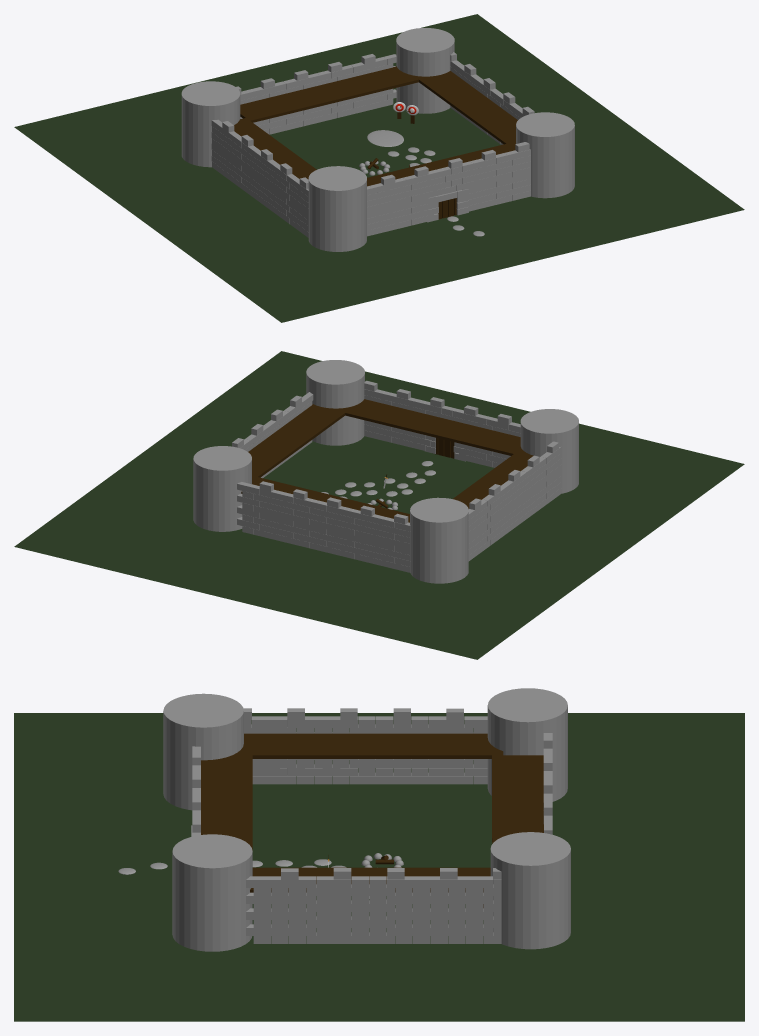
File: Castle.glb
3 views of the same model, one above another, from view 1: azimuth 30°, elevation 25°; view 2: azimuth 150°, elevation 25°; view 3: azimuth 270°, elevation 25° (orthographic). The views are drawn at different scales.
Parts seen in each view (by area): view 1: Plane, Cylinder.005, Cylinder.004, Cube.134, Cylinder.003, Cylinder.001, Cube.133, Cube.402, Cube.401; view 2: Plane, Cylinder.003, Cylinder.001, Cube.401, Cylinder.004, Cylinder.005, Cube.133, Cube.402, Cube.134; view 3: Plane, Cylinder.004, Cylinder.001, Cube.402, Cylinder.005, Cylinder.003, Cube.401, Cube.134, Cube.133.
Part boxes in pixels (x1=…): Plane: x1=14, y1=14, x2=744, y2=322; Cylinder.005: x1=308, y1=166, x2=366, y2=251; Cylinder.004: x1=516, y1=112, x2=574, y2=198; Cube.134: x1=240, y1=66, x2=418, y2=122; Cylinder.003: x1=181, y1=81, x2=240, y2=167; Cylinder.001: x1=396, y1=28, x2=454, y2=113; Cube.133: x1=414, y1=71, x2=517, y2=146; Cube.402: x1=234, y1=118, x2=316, y2=179; Cube.401: x1=367, y1=144, x2=515, y2=186; Plane: x1=14, y1=351, x2=744, y2=659; Cylinder.003: x1=410, y1=497, x2=468, y2=583; Cylinder.001: x1=193, y1=446, x2=251, y2=531; Cube.401: x1=343, y1=399, x2=526, y2=455; Cylinder.004: x1=306, y1=360, x2=364, y2=445; Cylinder.005: x1=520, y1=409, x2=578, y2=493; Cube.133: x1=248, y1=404, x2=348, y2=479; Cube.402: x1=453, y1=451, x2=533, y2=508; Cube.134: x1=241, y1=476, x2=409, y2=522; Plane: x1=14, y1=713, x2=744, y2=1021; Cylinder.004: x1=172, y1=834, x2=252, y2=951; Cylinder.001: x1=490, y1=832, x2=570, y2=949; Cube.402: x1=235, y1=733, x2=503, y2=758; Cylinder.005: x1=163, y1=693, x2=243, y2=810; Cylinder.003: x1=487, y1=688, x2=567, y2=801; Cube.401: x1=201, y1=749, x2=252, y2=850; Cube.134: x1=492, y1=755, x2=543, y2=843; Cube.133: x1=250, y1=867, x2=490, y2=892.
Size of the model in its own units: 166 by 22.8 by 166.
